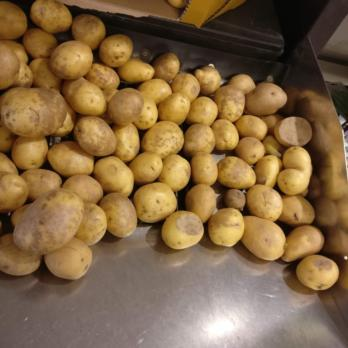Solid potato: (0, 0, 94, 280), (155, 52, 237, 253), (267, 112, 348, 287), (98, 32, 151, 237), (232, 69, 285, 265)
